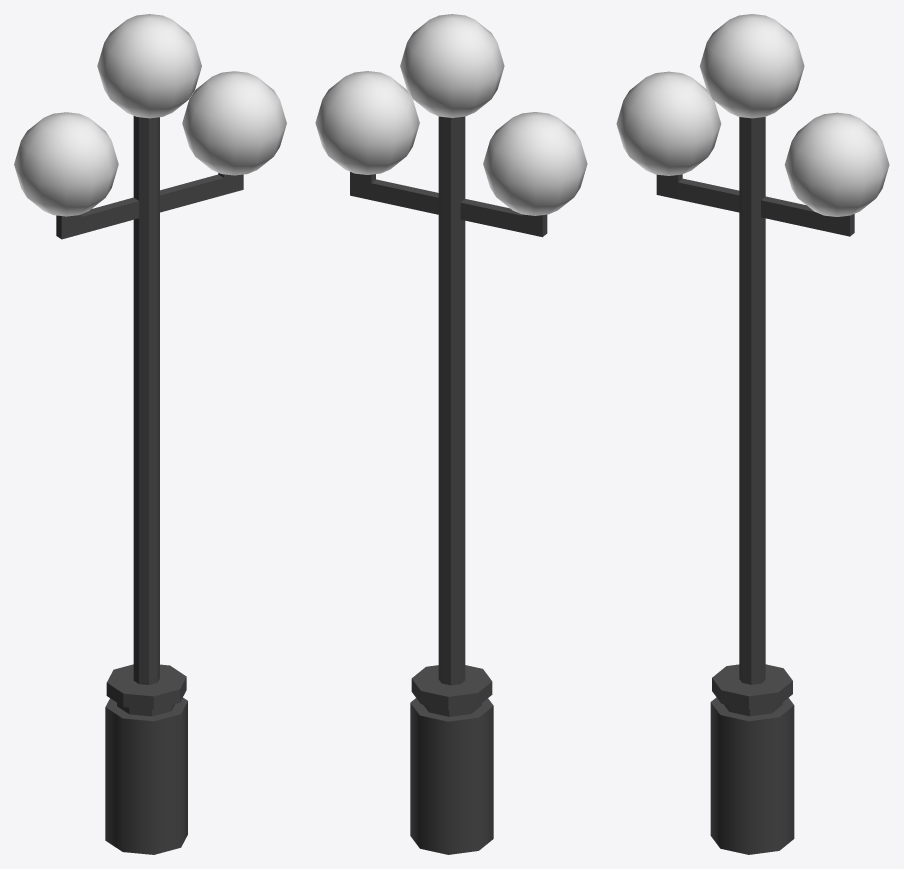
The model's file is Poste3Bolinhas.FBX.
3 renders of one model, left to right at view 1: azimuth 30°, elevation 25°; view 2: azimuth 150°, elevation 25°; view 3: azimuth 330°, elevation 25°, orthographic.
Parts seen in each view (by area): view 1: Cylinder003; view 2: Cylinder003; view 3: Cylinder003.
Part boxes in pixels (<box>): Cylinder003: <box>14,14,286,854</box>; Cylinder003: <box>315,14,587,854</box>; Cylinder003: <box>616,14,889,854</box>.
Bounding box in the file's own units: 2 × 6.05 × 0.7014.
